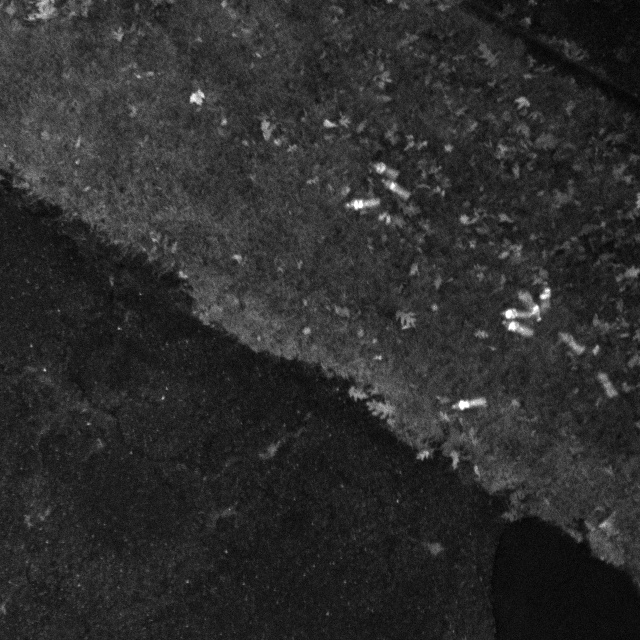bottle: (365, 156, 413, 183), (553, 325, 584, 356), (341, 188, 381, 212), (446, 393, 484, 416), (376, 178, 411, 202), (502, 311, 533, 337), (529, 284, 555, 311), (514, 291, 541, 313), (498, 306, 534, 322)
